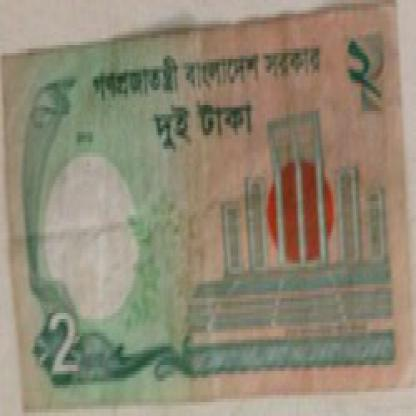two taka: (142, 104, 262, 159), (42, 302, 88, 371)
